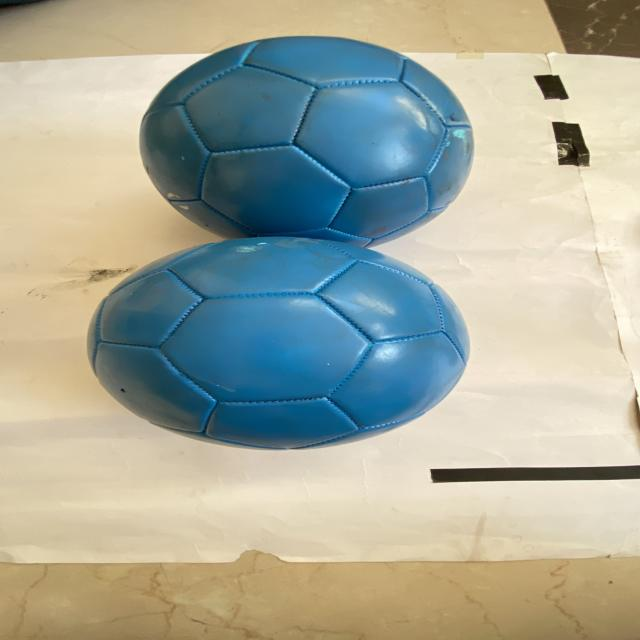blue_ball: (100, 237, 470, 451), (147, 34, 472, 247)
